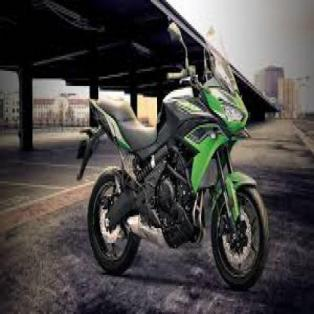Motocicleta: (75, 13, 273, 290)
